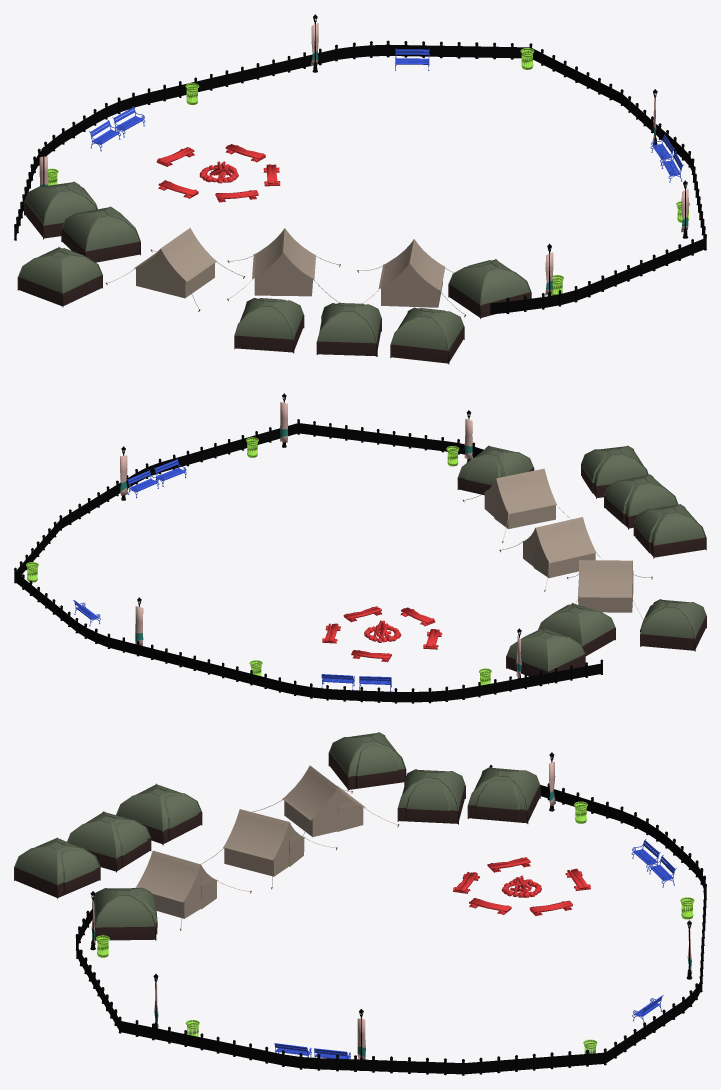
File: obszar_treningowy 1.fbx
3 renders of one model, top to bottom at view 1: azimuth 30°, elevation 25°; view 2: azimuth 150°, elevation 25°; view 3: azimuth 270°, elevation 25°, orthographic. The views are drawn at different scales.
Parts seen in each view (by area): view 1: namiot2.014; view 2: namiot2.014; view 3: namiot2.014.
Part boxes in pixels (x1=…): namiot2.014: x1=14, y1=14, x2=706, y2=364; namiot2.014: x1=14, y1=393, x2=706, y2=703; namiot2.014: x1=14, y1=732, x2=706, y2=1075.
Size of the model in its own units: 4061 by 370 by 3731.
